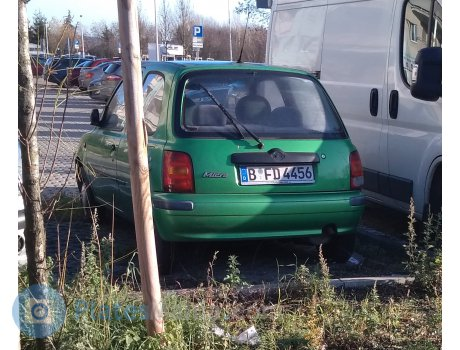License Plates: (241, 162, 314, 176)
